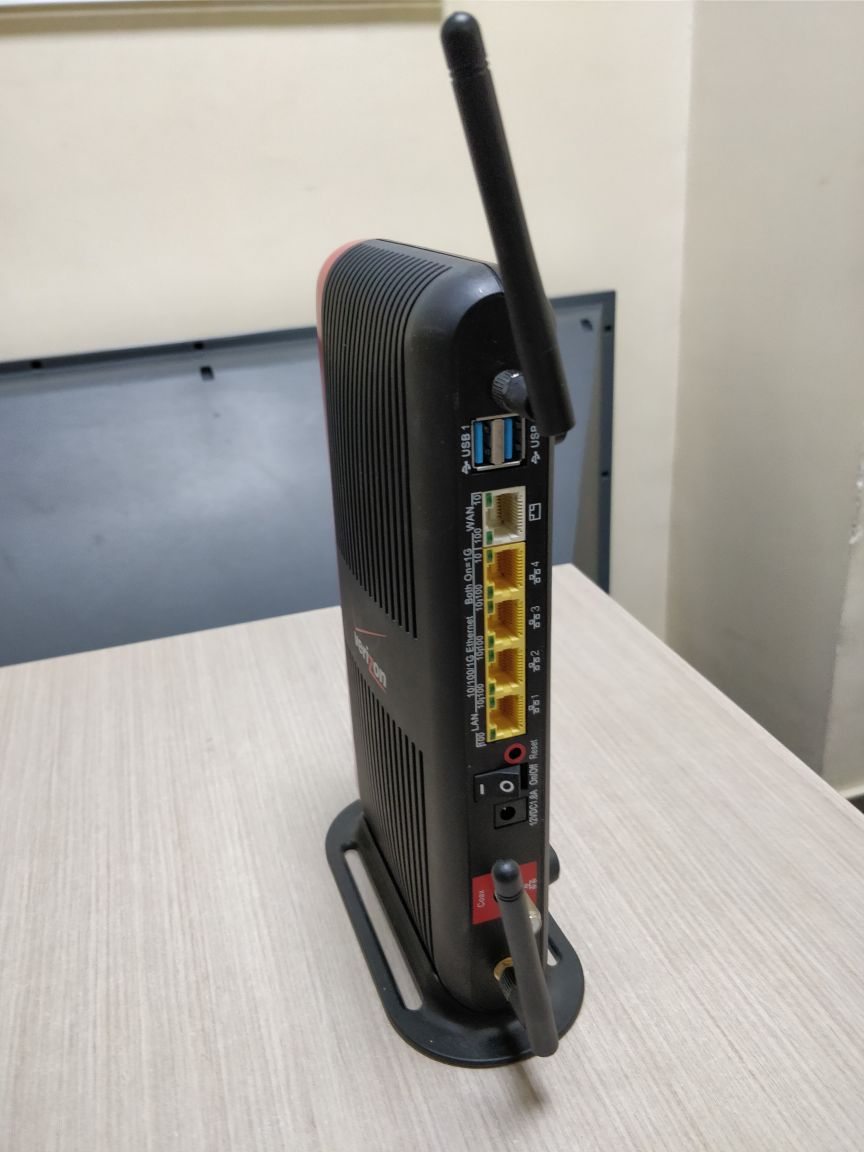Verizon Router: (242, 148, 693, 1147)
